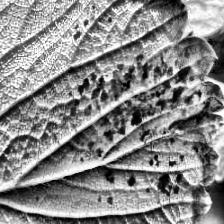Angular Leafspot: (62, 3, 221, 214)
